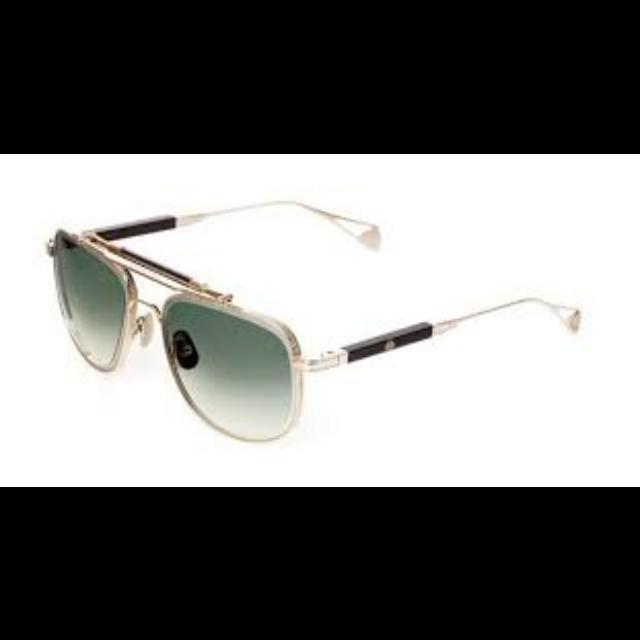sunglasses: (44, 198, 582, 444)
